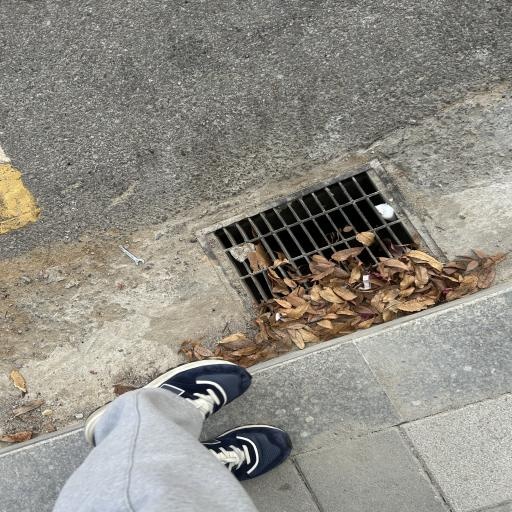debris: (265, 231, 445, 344), (236, 243, 277, 277), (332, 248, 361, 260), (356, 230, 375, 245), (273, 253, 287, 267), (338, 226, 351, 231)
drain: (218, 173, 458, 346)
